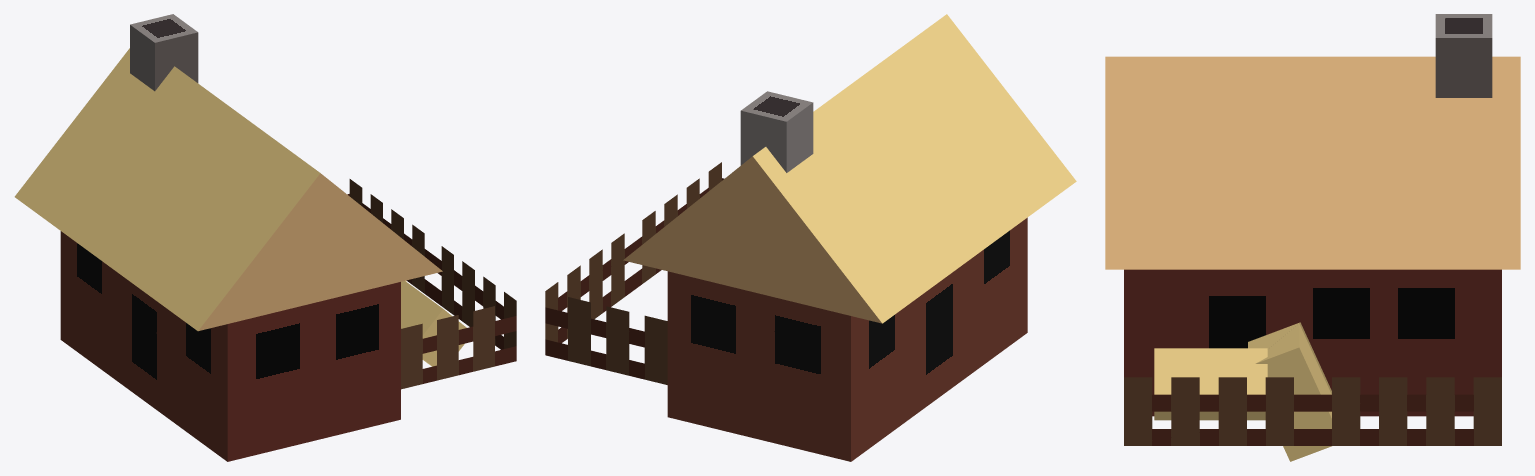
The model's file is plains_house_1.gltf.
3 renders of one model, left to right at view 1: azimuth 30°, elevation 25°; view 2: azimuth 150°, elevation 25°; view 3: azimuth 270°, elevation 25°, orthographic. The views are drawn at different scales.
Parts seen in each view (by area): view 1: plains_house_1, plane (×2), group25; view 2: plains_house_1, plane (×2); view 3: plains_house_1, plane, group25, group26.
Part boxes in pixels (box(x1,y1,x2,y2)): plains_house_1: box(14, 14, 442, 461); plane (×2): box(349, 179, 516, 389); group25: box(401, 281, 466, 366); plains_house_1: box(623, 14, 1076, 461); plane (×2): box(545, 162, 721, 384); plains_house_1: box(1105, 14, 1520, 416); plane: box(1124, 377, 1501, 445); group25: box(1154, 348, 1267, 420); group26: box(1248, 322, 1331, 461).
Size of the model in its own units: 0.7071 by 0.6429 by 0.6875.
Materials: 1 (1 with a texture image).
